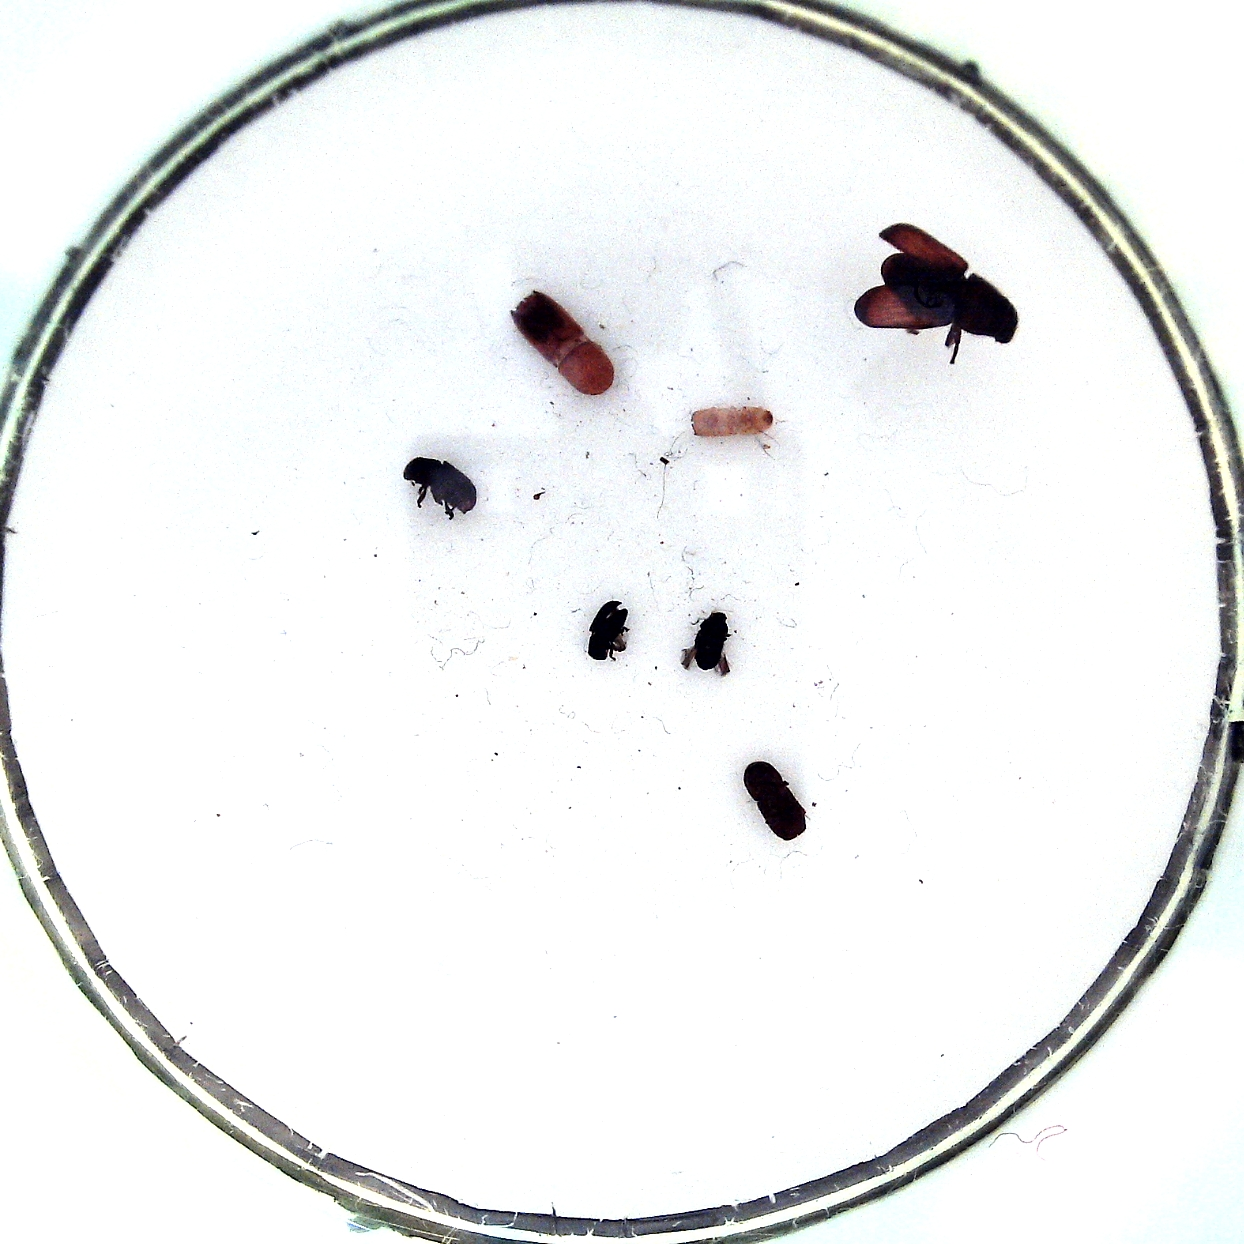Boerner: (511, 289, 615, 395)
Leconte: (882, 254, 1018, 346)
acuminatus: (696, 611, 727, 671)
armandi: (403, 456, 475, 513)
coleoptera: (588, 600, 630, 658)
linnaeus: (744, 759, 805, 840), (690, 406, 772, 437)
